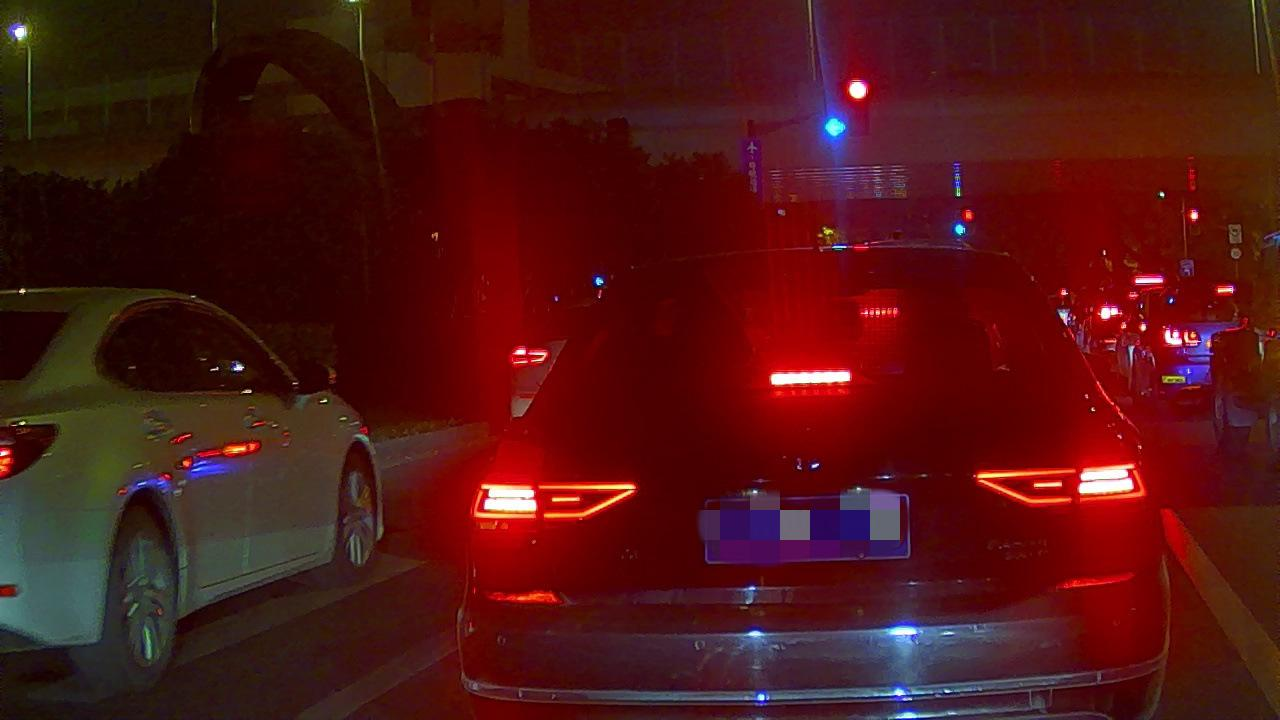traffic_light: (849, 78, 866, 98), (824, 118, 845, 134)
